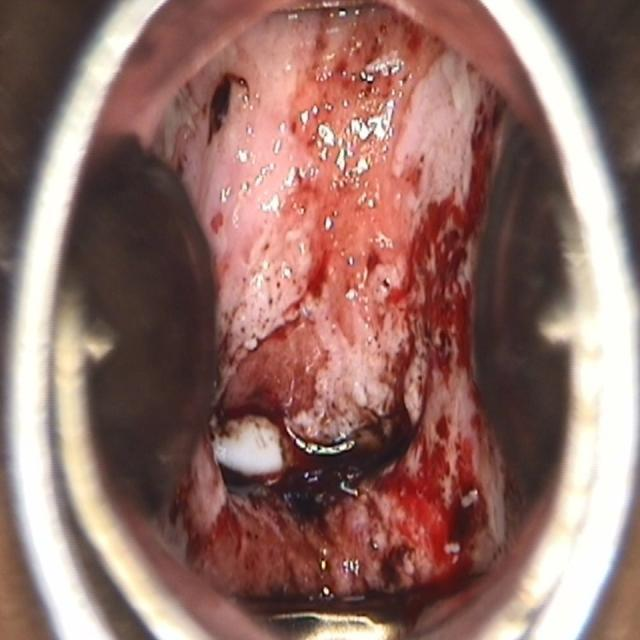cervical_lesion: (148, 2, 533, 640)
